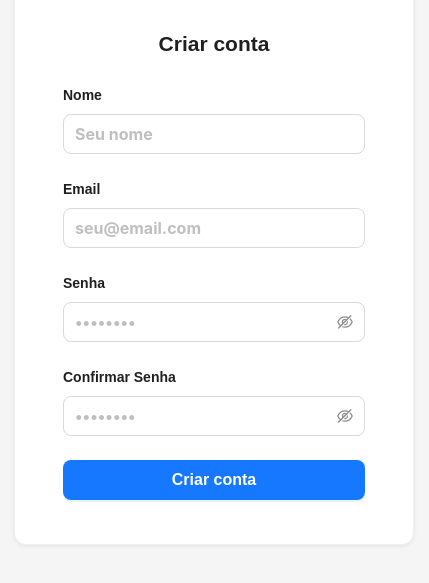
Test: NewUserForm › validates that the email is required
The image size is (429, 583).
In the field with placeholder "Seu nome": coordinates (214, 134) 63,114 -> 365,154, type "Fulano"
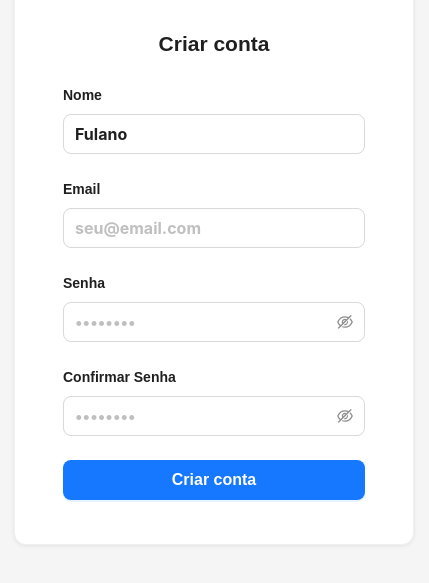
In the 1st password field with placeholder "••••••••": coordinates (204, 322) 75,310 -> 333,334, type "123456"
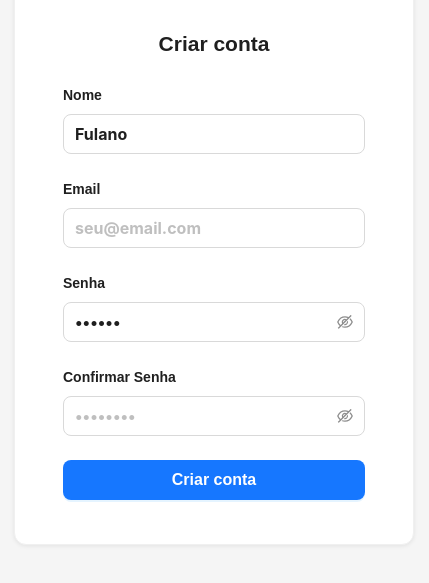
In the password field with placeholder "••••••••": coordinates (204, 416) 75,404 -> 333,428, type "123456"
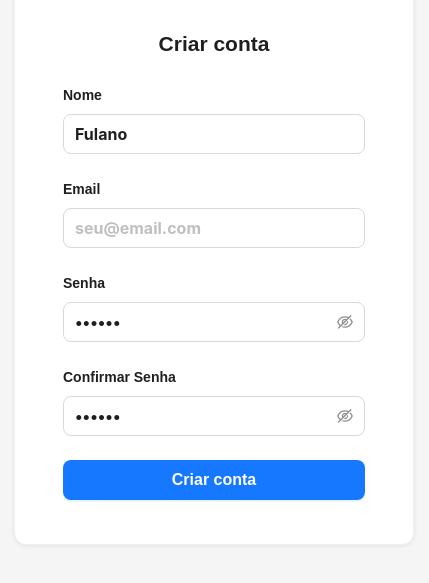
Click the button "Criar conta": coordinates (214, 480) 63,460 -> 365,500
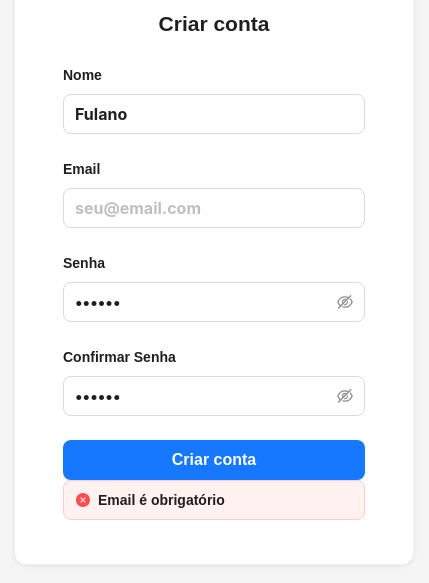
expect the text "Email é obrigatório" is shown: met, box 98,492 -> 225,508
